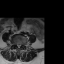CCS_normal: (18, 43, 19, 49)
LFS_severe_stenosis: (21, 42, 23, 46)
LLS_stenosis: (20, 43, 21, 48)
RFS_severe_stenosis: (15, 42, 17, 46)
RLS_stenosis: (17, 43, 18, 48)
